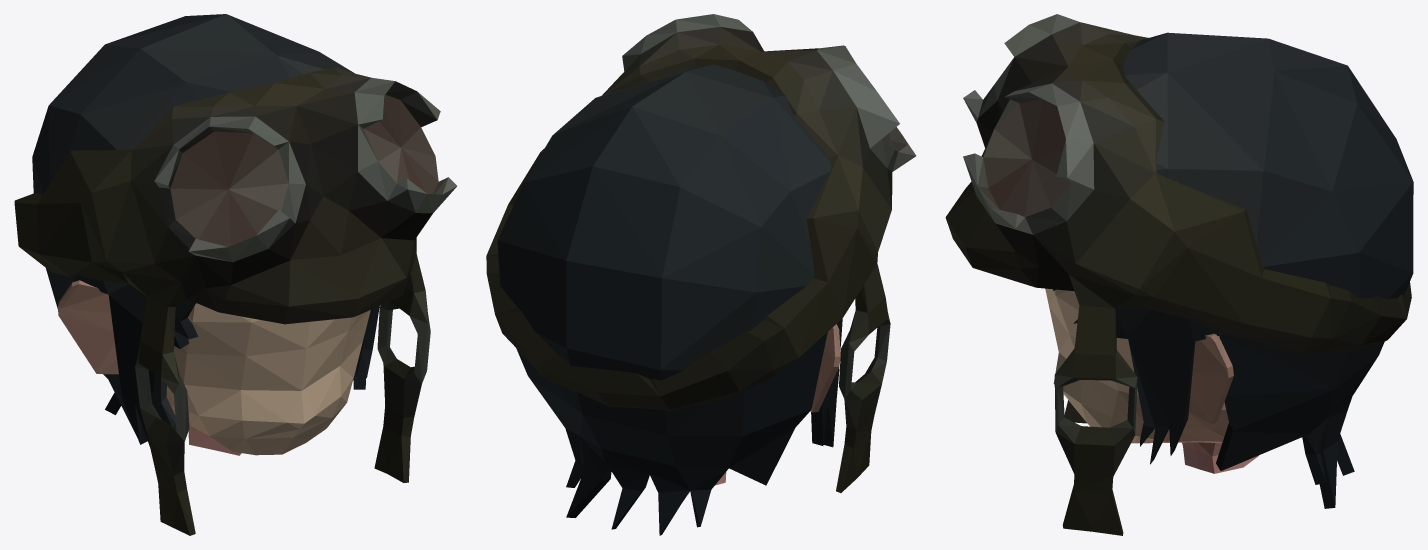
The model's file is helm_lightskin_standard_black_goggles.fbx.
The picture shows the model from 3 angles, left to right: view 1: azimuth 30°, elevation 25°; view 2: azimuth 150°, elevation 25°; view 3: azimuth 270°, elevation 25°; orthographic projection. The views are drawn at different scales.
Visible parts, largest first — view 1: helm_lightskin_standard_black_goggles; view 2: helm_lightskin_standard_black_goggles; view 3: helm_lightskin_standard_black_goggles.
Boxes of the visible parts, <box> form: helm_lightskin_standard_black_goggles: <box>14,14,456,535</box>; helm_lightskin_standard_black_goggles: <box>486,14,916,535</box>; helm_lightskin_standard_black_goggles: <box>945,14,1413,535</box>.
Size of the model in its own units: 1.19 by 1.39 by 1.39.
